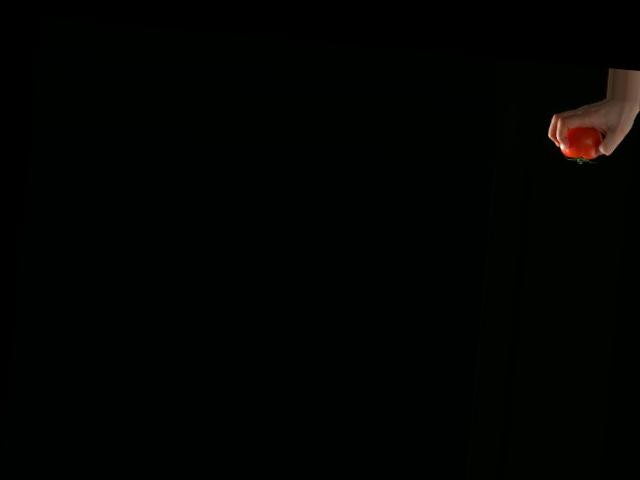tomato: (559, 125, 603, 164)
